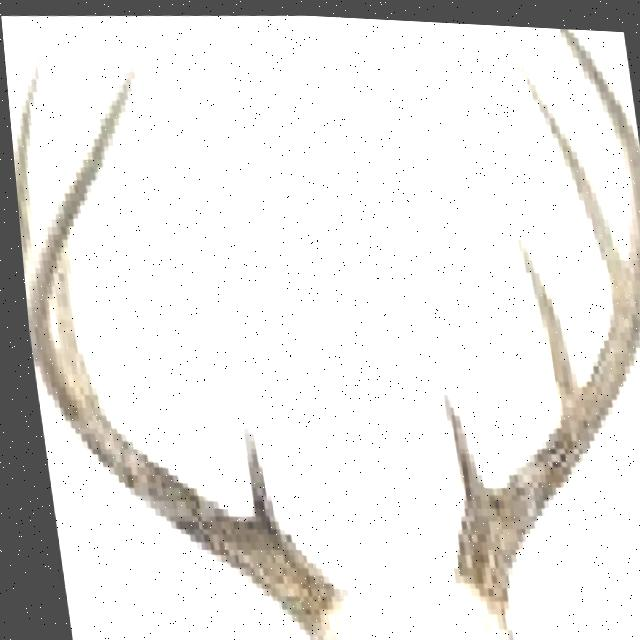L-F: (434, 23, 640, 640)
L-G1: (435, 378, 478, 505)
L-G2: (506, 211, 574, 413)
L-G3: (510, 51, 625, 305)
R-F: (19, 57, 345, 640)
R-G1: (233, 410, 273, 531)
